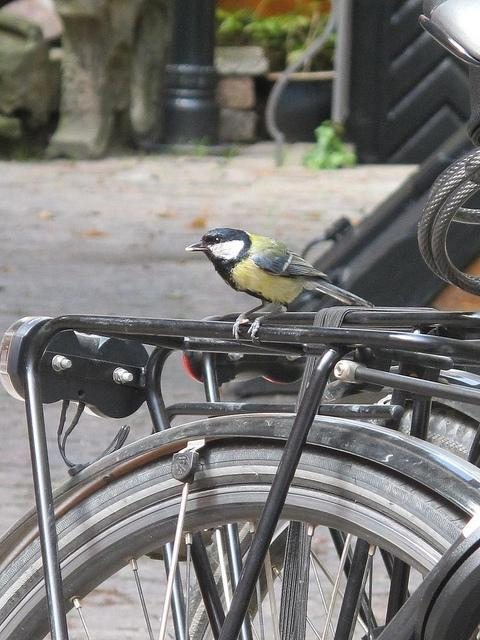bicycle: (0, 307, 480, 629)
